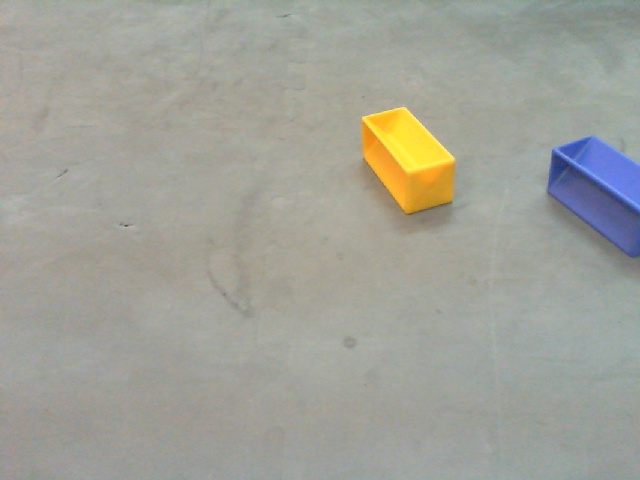BlueSample: (544, 130, 640, 262)
YellowSample: (357, 105, 462, 221)
